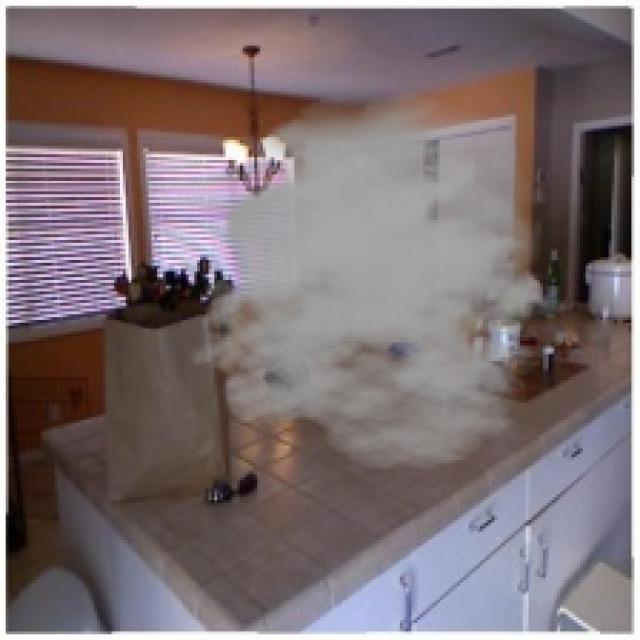smoke: (188, 91, 588, 472)
